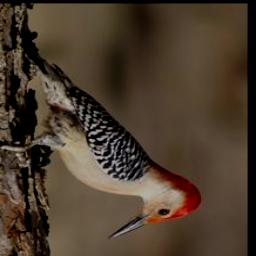Woodpecker: (0, 40, 207, 241)
